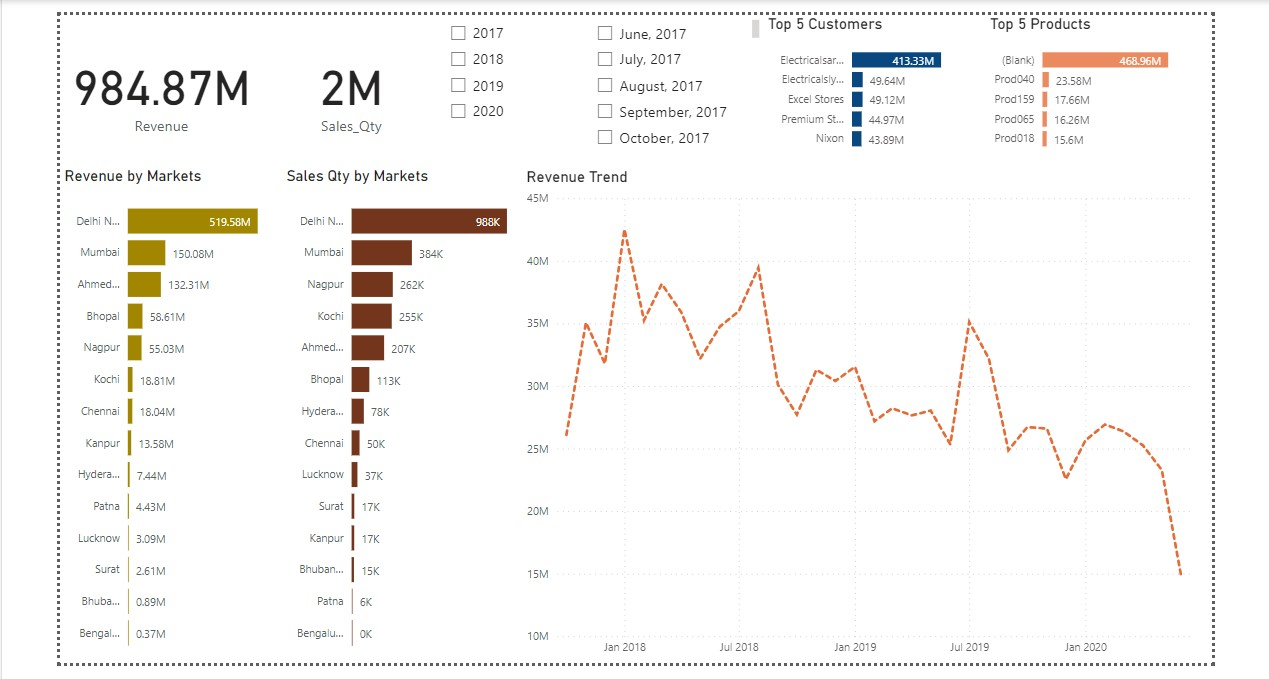

The page's visual inventory and layout, read from the dashboard file:
{"tool":"powerbi","page":{"name":"Page 1","canvas":[1280,720],"ordinal":0},"visuals":[{"type":"card","fields":{"Values":["BaseMeasures.Revenue"]},"box":[0,0,225,168.3],"z":0},{"type":"card","fields":{"Values":["BaseMeasures.Sales_Qty"]},"box":[225,0,196.7,168.3],"z":1000},{"type":"barChart","title":"Revenue by Markets","fields":{"Y":["BaseMeasures.Revenue"],"Category":["sales markets.markets_name"]},"box":[0,168.3,246.7,551.7],"z":2000},{"type":"barChart","title":"Sales Qty by Markets","fields":{"Y":["BaseMeasures.Sales_Qty"],"Category":["sales markets.markets_name"]},"box":[246.7,168.3,256.7,551.7],"z":3000},{"type":"slicer","fields":{"Values":["sales date.cy_date"]},"box":[585,0,196.7,160],"z":4000},{"type":"slicer","fields":{"Values":["sales date.year"]},"box":[421.7,0,163.3,160],"z":5000},{"type":"slicer","fields":{"Values":["sales date.year"]},"box":[1013.3,200,163.3,160],"z":6000},{"type":"barChart","title":"Top 5 Customers ","fields":{"Y":["BaseMeasures.Revenue"],"Category":["sales customers.custmer_name"]},"box":[781.7,0,246.7,160],"z":7000},{"type":"barChart","title":"Top 5 Products","fields":{"Y":["BaseMeasures.Revenue"],"Category":["sales products.product_code"]},"box":[1028.3,0,246.7,160],"z":8000},{"type":"lineChart","title":"Revenue Trend","fields":{"Y":["BaseMeasures.Revenue"],"Category":["sales date.cy_date"]},"box":[513.3,170,761.7,550],"z":9000}]}

Visuals, with their boxes on the page's 1280x720 design canvas (x1, y1, x2, y2). These are canvas units, not pixel positions in the 1269x679 screenshot, which may show the page scaled, cropped or inside an application window:
card - BaseMeasures.Revenue: left=0, top=0, right=225, bottom=168
card - BaseMeasures.Sales_Qty: left=225, top=0, right=422, bottom=168
"Revenue by Markets" barChart: left=0, top=168, right=247, bottom=720
"Sales Qty by Markets" barChart: left=247, top=168, right=503, bottom=720
slicer - sales date.cy_date: left=585, top=0, right=782, bottom=160
slicer - sales date.year: left=422, top=0, right=585, bottom=160
slicer - sales date.year: left=1013, top=200, right=1177, bottom=360
"Top 5 Customers " barChart: left=782, top=0, right=1028, bottom=160
"Top 5 Products" barChart: left=1028, top=0, right=1275, bottom=160
"Revenue Trend" lineChart: left=513, top=170, right=1275, bottom=720
